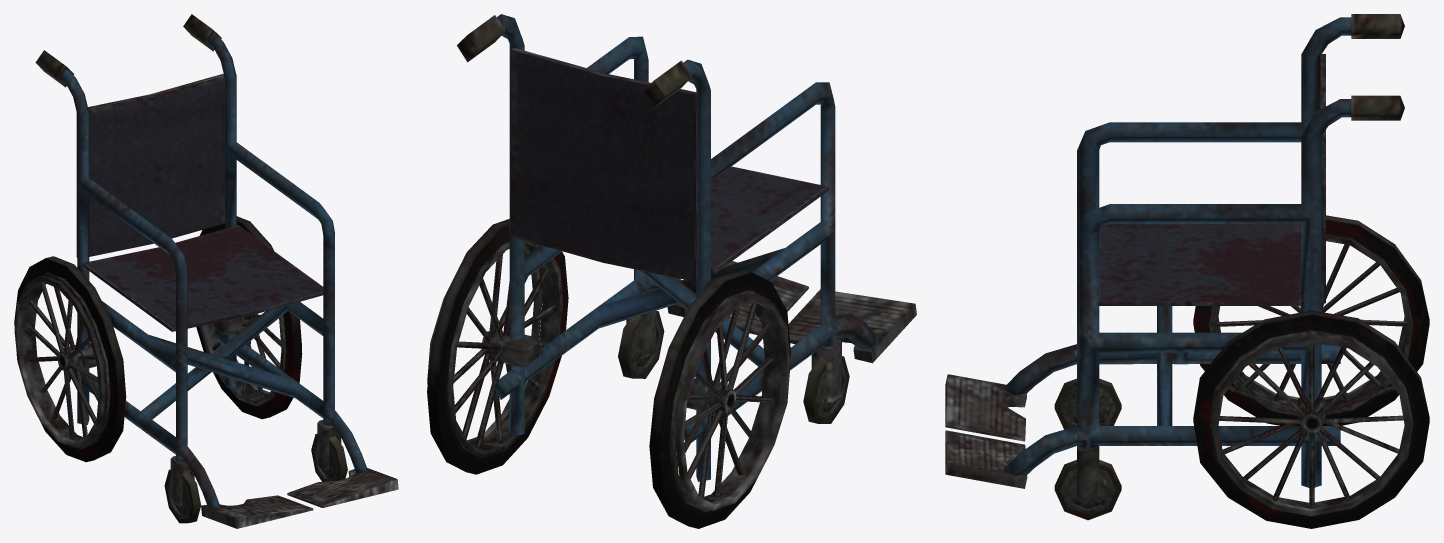
The model's file is Model_Prop_Wheelchair_EmbededMedia.fbx.
3 renders of one model, left to right at view 1: azimuth 30°, elevation 25°; view 2: azimuth 150°, elevation 25°; view 3: azimuth 270°, elevation 25°, orthographic. The views are drawn at different scales.
Parts seen in each view (by area): view 1: Cylinder001, Seat, Seat Bottom, Big Wheel_02, Wheel Spoke_02, Wheel Metal_02, Wheel Turner_02, Big Wheel_01, Foot Rest 01, Foot Rest 003, Wheel Metal_01, Small Wheel Tire_02 (+8 smaller); view 2: Seat, Cylinder001, Big Wheel_02, Big Wheel_01, Seat Bottom, Wheel Spoke_02, Wheel Metal_02, Wheel Metal_01, Wheel Turner_02, Wheel Spoke_01, Foot Rest 003, Foot Rest 01 (+10 smaller); view 3: Cylinder001, Seat Bottom, Big Wheel_01, Wheel Spoke_01, Big Wheel_02, Wheel Turner_01, Foot Rest 003, Foot Rest 01, Wheel Spoke_02, Wheel Metal_01, Wheel Metal_02, SmallWheel Inside_01 (+8 smaller).
Part boxes in pixels (x1=…): Cylinder001: x1=60, y1=33, x2=366, y2=508; Seat: x1=76, y1=74, x2=224, y2=257; Seat Bottom: x1=82, y1=225, x2=323, y2=331; Big Wheel_02: x1=14, y1=256, x2=126, y2=462; Wheel Spoke_02: x1=28, y1=282, x2=98, y2=437; Wheel Metal_02: x1=21, y1=272, x2=110, y2=448; Wheel Turner_02: x1=14, y1=275, x2=105, y2=447; Big Wheel_01: x1=196, y1=216, x2=302, y2=419; Foot Rest 01: x1=287, y1=468, x2=398, y2=507; Foot Rest 003: x1=201, y1=495, x2=313, y2=528; Wheel Metal_01: x1=199, y1=315, x2=286, y2=405; Small Wheel Tire_02: x1=164, y1=469, x2=201, y2=523; Seat: x1=510, y1=47, x2=698, y2=281; Cylinder001: x1=493, y1=14, x2=875, y2=481; Big Wheel_02: x1=649, y1=269, x2=790, y2=528; Big Wheel_01: x1=427, y1=219, x2=568, y2=474; Seat Bottom: x1=711, y1=166, x2=828, y2=273; Wheel Spoke_02: x1=677, y1=302, x2=773, y2=498; Wheel Metal_02: x1=669, y1=290, x2=782, y2=512; Wheel Metal_01: x1=447, y1=241, x2=563, y2=457; Wheel Turner_02: x1=675, y1=294, x2=790, y2=510; Wheel Spoke_01: x1=453, y1=254, x2=555, y2=449; Foot Rest 003: x1=788, y1=289, x2=916, y2=363; Foot Rest 01: x1=667, y1=261, x2=808, y2=335; Cylinder001: x1=1003, y1=17, x2=1351, y2=487; Seat Bottom: x1=1098, y1=224, x2=1301, y2=305; Big Wheel_01: x1=1193, y1=310, x2=1429, y2=528; Wheel Spoke_01: x1=1219, y1=342, x2=1403, y2=506; Big Wheel_02: x1=1193, y1=215, x2=1429, y2=425; Wheel Turner_01: x1=1212, y1=334, x2=1410, y2=516; Foot Rest 003: x1=945, y1=374, x2=1026, y2=441; Foot Rest 01: x1=945, y1=430, x2=1027, y2=488; Wheel Spoke_02: x1=1215, y1=244, x2=1407, y2=401; Wheel Metal_01: x1=1209, y1=330, x2=1413, y2=508; Wheel Metal_02: x1=1209, y1=235, x2=1413, y2=415; SmallWheel Inside_01: x1=1060, y1=469, x2=1115, y2=515.
Size of the model in its own units: 25.19 by 44.58 by 46.32.
Materials: 1 (1 with a texture image).
